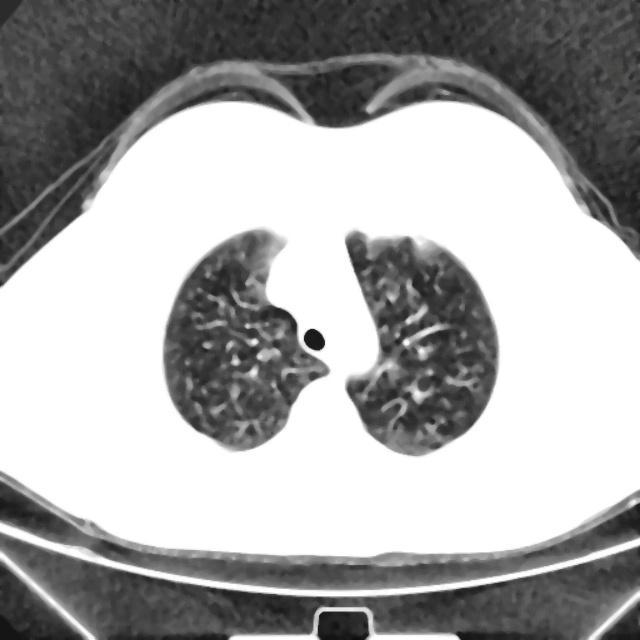covid: (161, 226, 329, 451), (343, 228, 499, 456)
